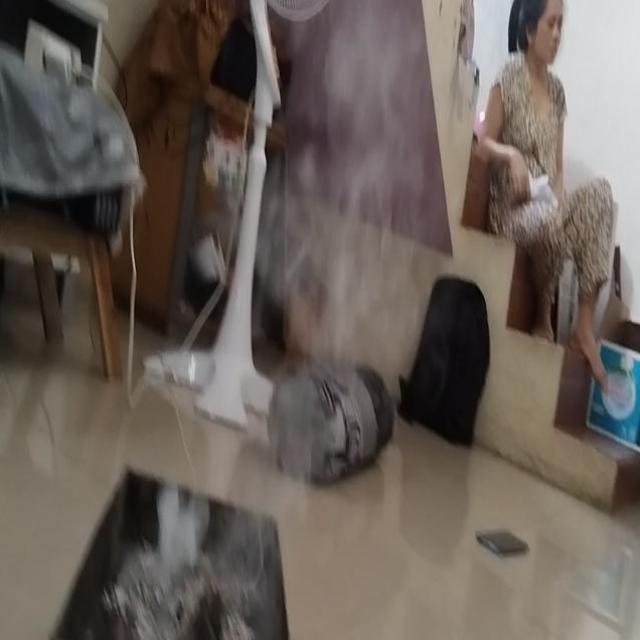fire: (291, 6, 420, 364)
